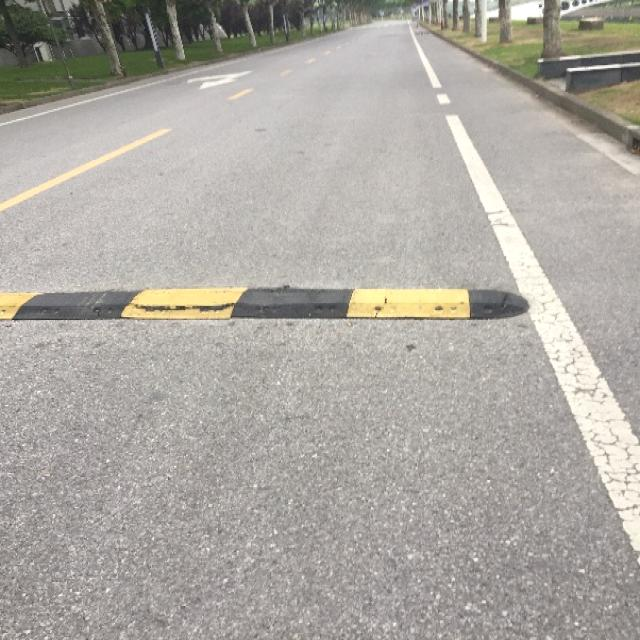Speed Bump: (1, 278, 533, 327)
